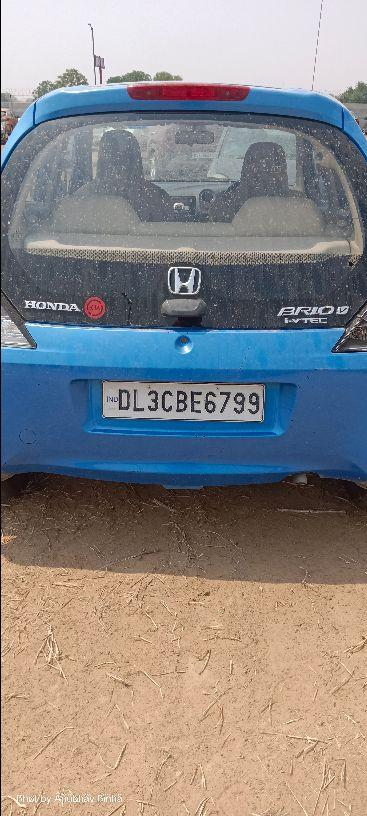license_plate: (100, 379, 265, 423)
